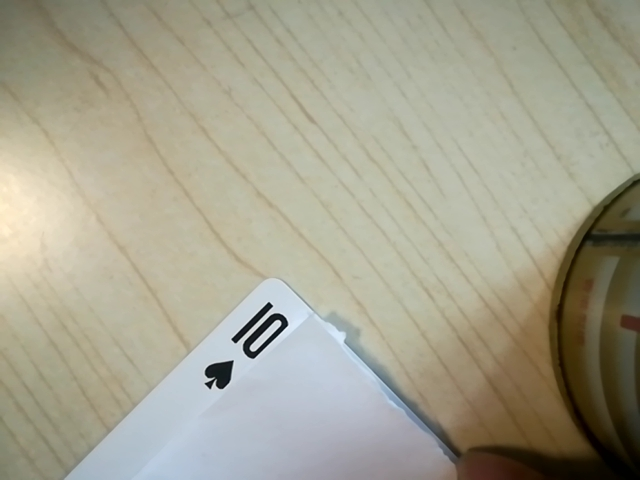ht 10: (184, 299, 302, 400)
